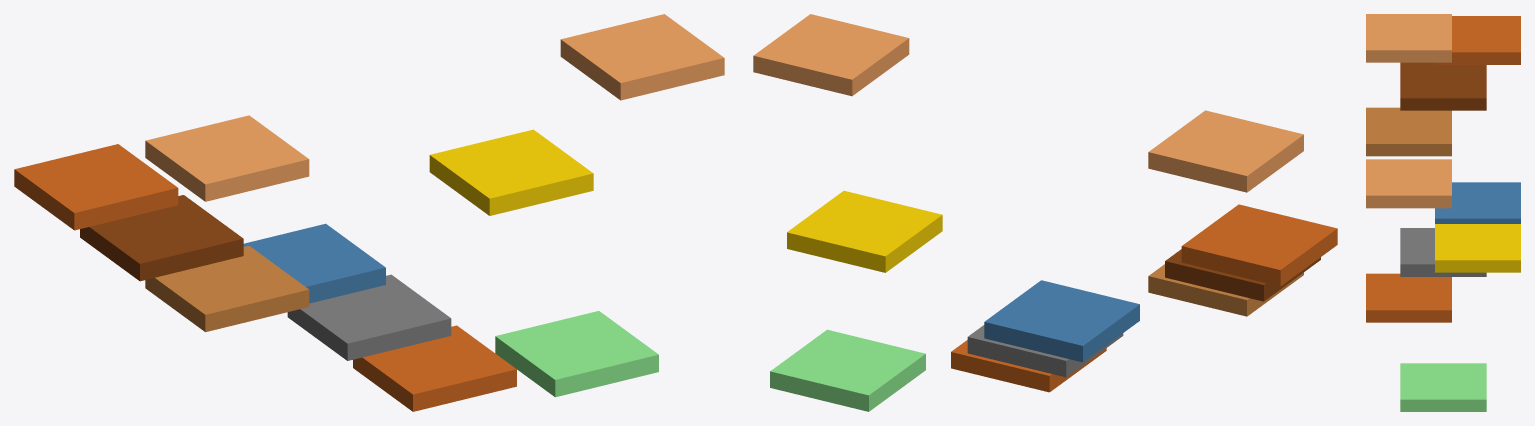
The model's file is stratigraphy_test.obj.
3 renders of one model, left to right at view 1: azimuth 30°, elevation 25°; view 2: azimuth 150°, elevation 25°; view 3: azimuth 270°, elevation 25°, orthographic. The views are drawn at different scales.
Parts seen in each view (by area): view 1: US_1008, US_1001, US_1010, US_1002, US_1009, US_1004, US_1007, US_1003, US_1006, US_1005; view 2: US_1002, US_1010, US_1008, US_1009, US_1001, US_1005, US_1006, US_1003, US_1004, US_1007; view 3: US_1010, US_1009, US_1001, US_1008, US_1004, US_1003, US_1007, US_1002, US_1005, US_1006.
Part boxes in pixels (x1=…): US_1008: x1=429, y1=129, x2=593, y2=215; US_1001: x1=145, y1=115, x2=309, y2=201; US_1010: x1=560, y1=14, x2=724, y2=100; US_1002: x1=14, y1=144, x2=178, y2=230; US_1009: x1=495, y1=311, x2=658, y2=397; US_1004: x1=145, y1=246, x2=309, y2=332; US_1007: x1=353, y1=325, x2=516, y2=411; US_1003: x1=80, y1=195, x2=243, y2=281; US_1006: x1=287, y1=274, x2=451, y2=360; US_1005: x1=243, y1=223, x2=385, y2=303; US_1002: x1=1181, y1=204, x2=1337, y2=286; US_1010: x1=753, y1=14, x2=909, y2=96; US_1008: x1=787, y1=190, x2=942, y2=272; US_1009: x1=770, y1=329, x2=925, y2=411; US_1001: x1=1148, y1=110, x2=1303, y2=192; US_1005: x1=984, y1=280, x2=1139, y2=362; US_1006: x1=967, y1=325, x2=1123, y2=377; US_1003: x1=1165, y1=249, x2=1320, y2=301; US_1004: x1=1148, y1=264, x2=1303, y2=316; US_1007: x1=951, y1=340, x2=1106, y2=392; US_1010: x1=1366, y1=159, x2=1451, y2=208; US_1009: x1=1400, y1=363, x2=1486, y2=411; US_1001: x1=1366, y1=14, x2=1451, y2=62; US_1008: x1=1435, y1=224, x2=1520, y2=272; US_1004: x1=1366, y1=107, x2=1451, y2=156; US_1003: x1=1400, y1=62, x2=1486, y2=110; US_1007: x1=1366, y1=273, x2=1451, y2=322; US_1002: x1=1435, y1=16, x2=1520, y2=64; US_1005: x1=1435, y1=182, x2=1520, y2=223; US_1006: x1=1400, y1=228, x2=1486, y2=276.
Bounding box in the file's own units: 14.5 × 7.4 × 4.5.
